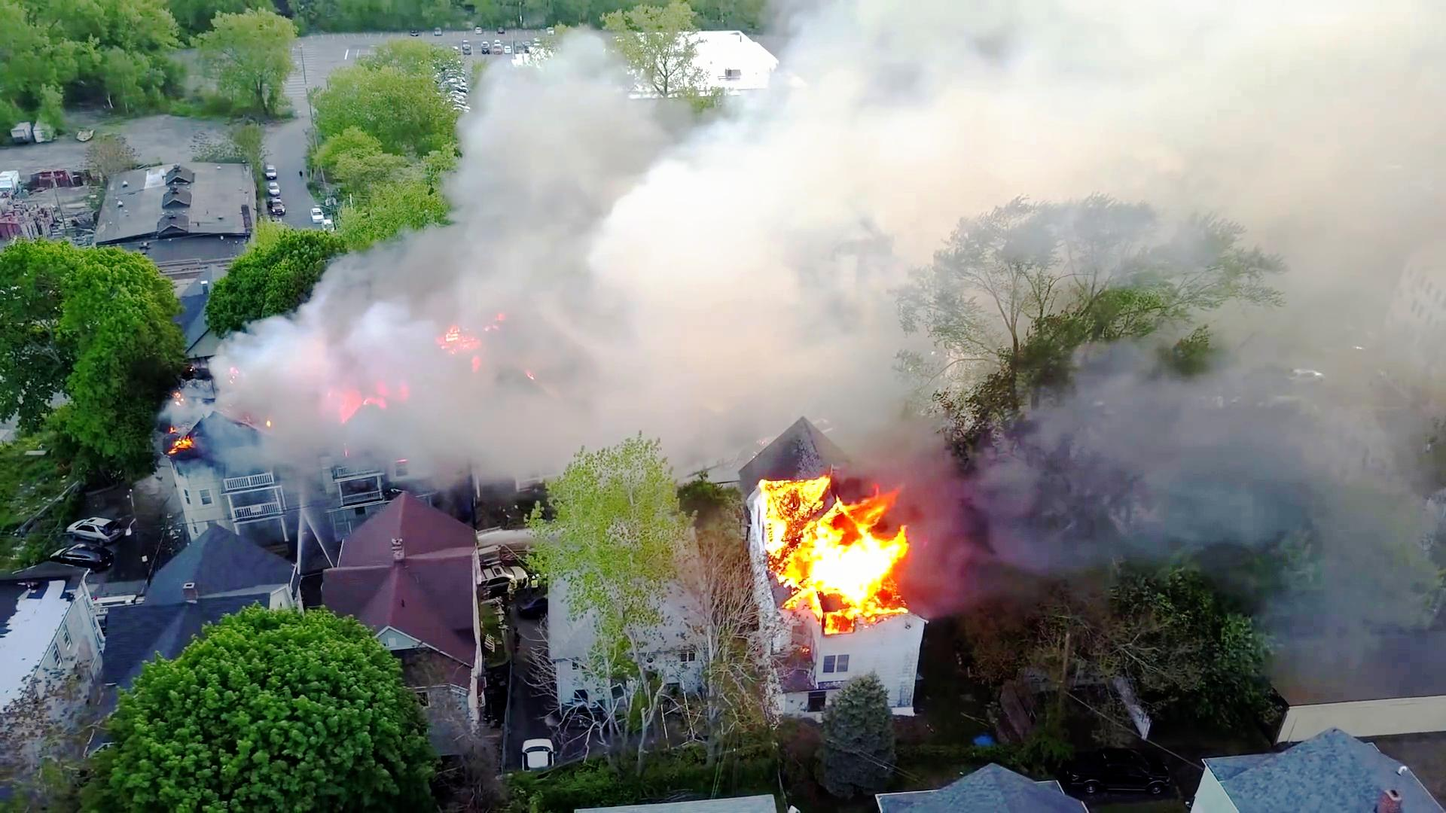fire: (769, 464, 906, 627)
smoke: (445, 192, 876, 350)
